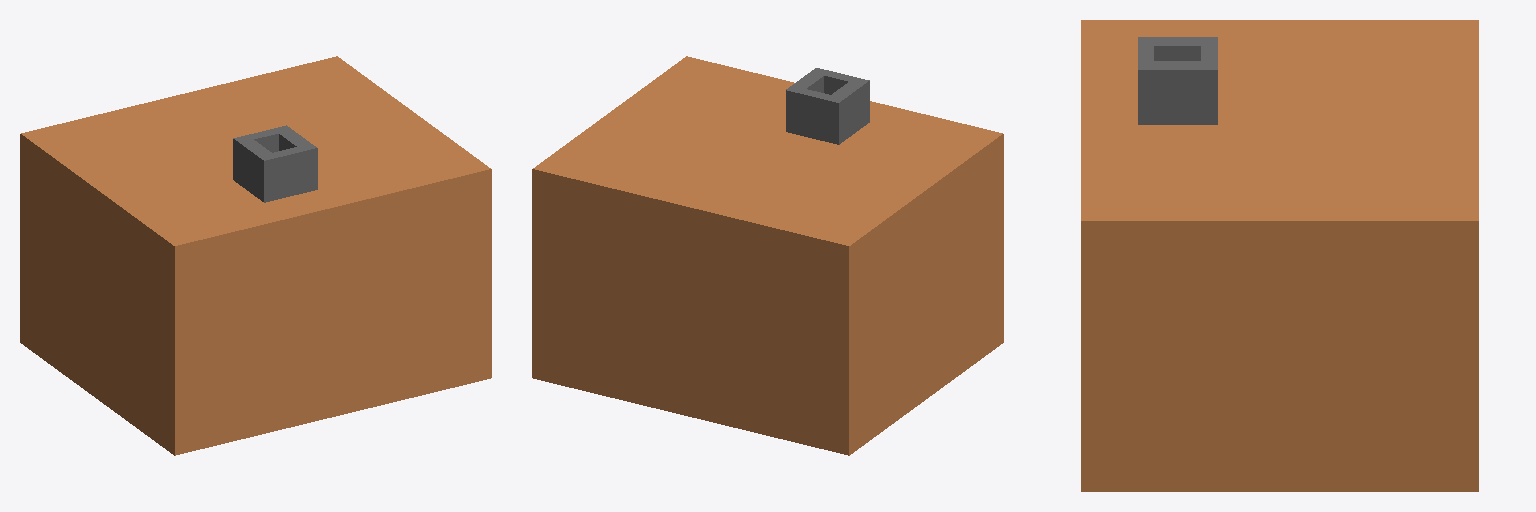
URDF robot description (peg_in_hole_scene_0050_tol09):
<?xml version="1.0"?>
<robot name="peg_in_hole_scene_0050_tol09">
  <material name="wood"><color rgba="0.82 0.56 0.35 1.0"/></material>
  <material name="hole_grey"><color rgba="0.4706 0.4706 0.4706 1.0"/></material>
  <link name="box">
    <visual>
      <origin xyz="0.000000 0.000000 0.000000" rpy="0 0 0"/>
      <geometry><box size="0.475000 0.400000 0.300000"/></geometry>
      <material name="wood"/>
    </visual>
    <collision>
      <origin xyz="0.000000 0.000000 0.000000" rpy="0 0 0"/>
      <geometry><box size="0.475000 0.400000 0.300000"/></geometry>
    </collision>
    <visual>
      <origin xyz="-0.030096 -0.102634 0.155000" rpy="0 0 0"/>
      <geometry><box size="0.080000 0.080000 0.010000"/></geometry>
      <material name="hole_grey"/>
    </visual>
    <collision>
      <origin xyz="-0.030096 -0.102634 0.155000" rpy="0 0 0"/>
      <geometry><box size="0.080000 0.080000 0.010000"/></geometry>
    </collision>
    <visual>
      <origin xyz="-0.000782 -0.102634 0.185000" rpy="0 0 0"/>
      <geometry><box size="0.021373 0.080000 0.050000"/></geometry>
      <material name="hole_grey"/>
    </visual>
    <collision>
      <origin xyz="-0.000782 -0.102634 0.185000" rpy="0 0 0"/>
      <geometry><box size="0.021373 0.080000 0.050000"/></geometry>
    </collision>
    <visual>
      <origin xyz="-0.059409 -0.102634 0.185000" rpy="0 0 0"/>
      <geometry><box size="0.021373 0.080000 0.050000"/></geometry>
      <material name="hole_grey"/>
    </visual>
    <collision>
      <origin xyz="-0.059409 -0.102634 0.185000" rpy="0 0 0"/>
      <geometry><box size="0.021373 0.080000 0.050000"/></geometry>
    </collision>
    <visual>
      <origin xyz="-0.030096 -0.070820 0.185000" rpy="0 0 0"/>
      <geometry><box size="0.037254 0.016373 0.050000"/></geometry>
      <material name="hole_grey"/>
    </visual>
    <collision>
      <origin xyz="-0.030096 -0.070820 0.185000" rpy="0 0 0"/>
      <geometry><box size="0.037254 0.016373 0.050000"/></geometry>
    </collision>
    <visual>
      <origin xyz="-0.030096 -0.134447 0.185000" rpy="0 0 0"/>
      <geometry><box size="0.037254 0.016373 0.050000"/></geometry>
      <material name="hole_grey"/>
    </visual>
    <collision>
      <origin xyz="-0.030096 -0.134447 0.185000" rpy="0 0 0"/>
      <geometry><box size="0.037254 0.016373 0.050000"/></geometry>
    </collision>
    <inertial>
      <mass value="500"/>
      <friction value="1.0"/>
      <inertia ixx="1000.0" ixy="0.0" ixz="0.0" iyy="1000.0" iyz="0.0" izz="1000.0"/>
    </inertial>
  </link>
</robot>

--- What the picture shows (computed from the rendered views, not written in the file) ---
3 views of the same robot in one strip: view 1: azimuth 30°, elevation 25°; view 2: azimuth 150°, elevation 25°; view 3: azimuth 270°, elevation 25° (orthographic).
Model peg_in_hole_scene_0050_tol09 with 1 links and 0 joints (none), rooted at box, posed every joint at zero.
Visible links, largest first — view 1: box; view 2: box; view 3: box.
Link boxes in pixels (left/top/right/bottom): box: left=20, top=56, right=491, bottom=455; box: left=532, top=56, right=1003, bottom=455; box: left=1081, top=20, right=1478, bottom=491.
Bounding box of the posed robot: 0.475 × 0.4 × 0.36 m (x, y, z).
Geometry: primitives only (box / cylinder / sphere), no mesh files.
